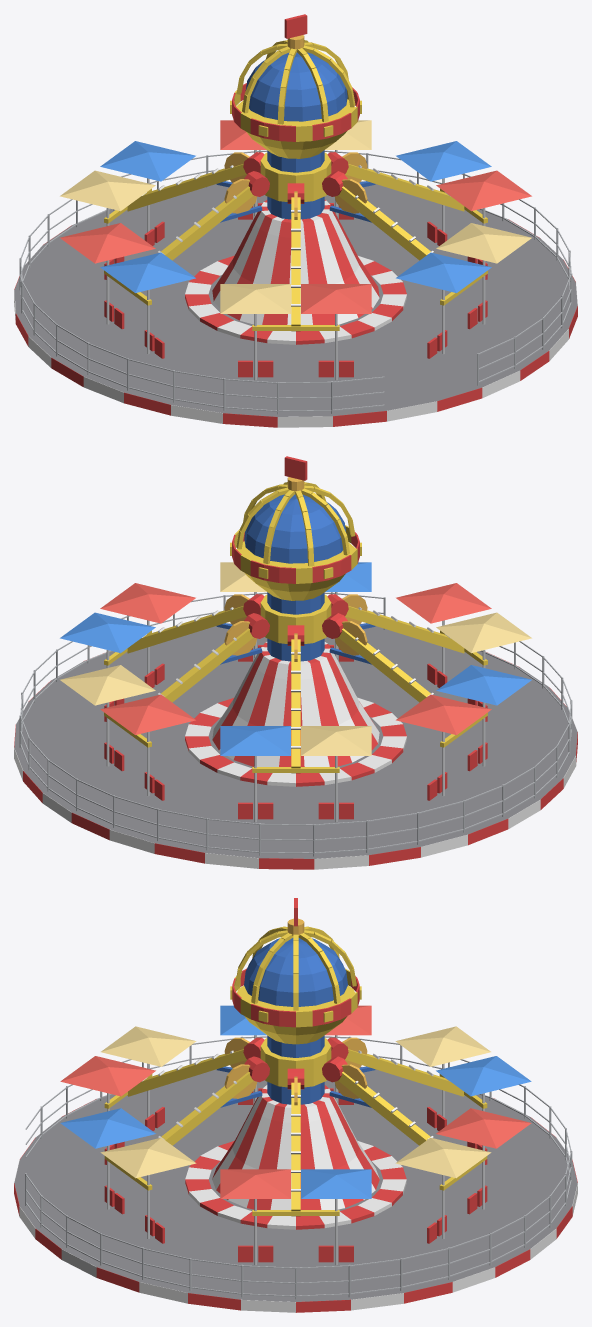
3 renders of one model, top to bottom at view 1: azimuth 30°, elevation 25°; view 2: azimuth 150°, elevation 25°; view 3: azimuth 270°, elevation 25°, orthographic.
Visible parts, largest first — view 1: base, rotor, hang4, hang3, hang5, hang0, hang2, tilt3, tilt5, tilt0, tilt2, hang1 (+1 smaller); view 2: base, rotor, hang2, hang1, hang3, hang0, hang4, tilt1, tilt3, tilt0, tilt4, hang5 (+1 smaller); view 3: base, rotor, hang0, hang5, hang1, hang2, hang4, tilt1, tilt5, tilt2, tilt4, hang3 (+1 smaller).
Part boxes in pixels (<box>): base: <box>14,150,577,427</box>; rotor: <box>230,14,361,219</box>; hang4: <box>220,284,371,380</box>; hang3: <box>60,223,195,358</box>; hang5: <box>396,223,531,358</box>; hang0: <box>396,141,531,279</box>; hang2: <box>60,141,195,279</box>; tilt3: <box>158,171,269,260</box>; tilt5: <box>322,171,433,260</box>; tilt0: <box>327,152,464,211</box>; tilt2: <box>127,152,264,211</box>; hang1: <box>220,120,371,219</box>; base: <box>14,592,577,869</box>; rotor: <box>230,456,361,661</box>; hang2: <box>220,726,371,822</box>; hang1: <box>60,665,195,800</box>; hang3: <box>396,665,531,800</box>; hang0: <box>60,583,195,721</box>; hang4: <box>396,583,531,721</box>; tilt1: <box>158,613,269,702</box>; tilt3: <box>322,613,433,702</box>; tilt0: <box>127,594,264,653</box>; tilt4: <box>327,594,464,653</box>; hang5: <box>220,562,371,661</box>; base: <box>14,1036,577,1312</box>; rotor: <box>230,898,361,1104</box>; hang0: <box>220,1169,371,1265</box>; hang5: <box>60,1108,196,1243</box>; hang1: <box>395,1108,531,1243</box>; hang2: <box>395,1026,531,1164</box>; hang4: <box>60,1026,196,1164</box>; tilt1: <box>322,1056,433,1145</box>; tilt5: <box>158,1056,269,1145</box>; tilt2: <box>327,1037,464,1096</box>; tilt4: <box>127,1037,264,1096</box>; hang3: <box>220,1005,371,1104</box>.
Size of the model in its own units: 16.8 by 9.6 by 16.8.
